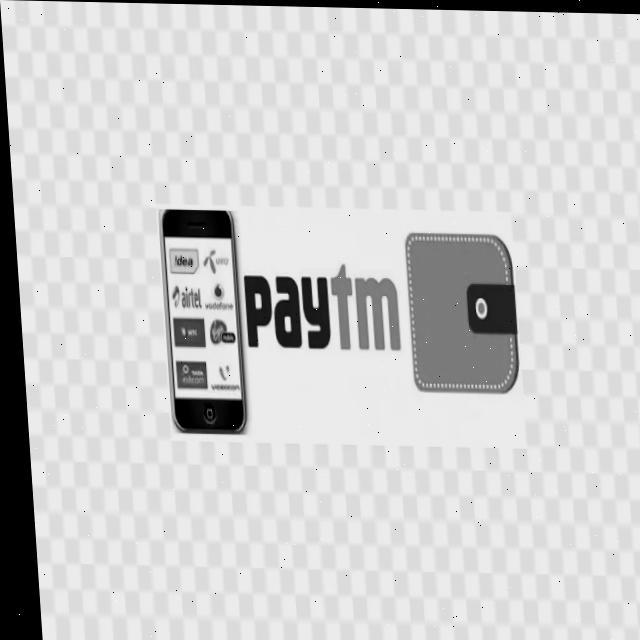fully_visible: (237, 256, 401, 369)
